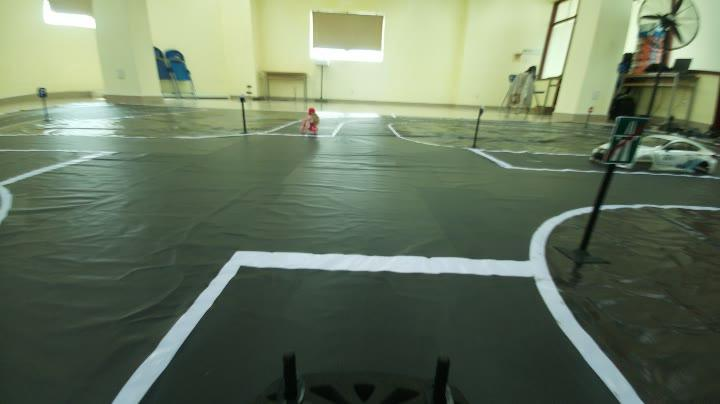highway_exit: (602, 111, 654, 169)
